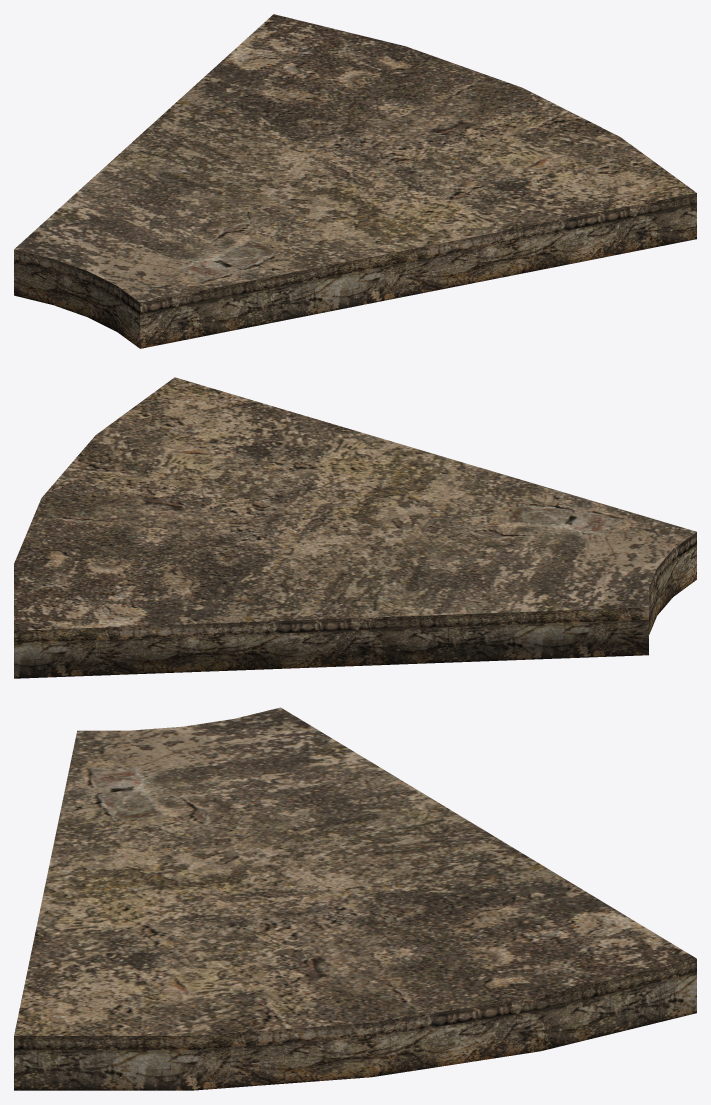
Rendered from materials_5_steps_10.fbx.
3 renders of one model, top to bottom at view 1: azimuth 30°, elevation 25°; view 2: azimuth 150°, elevation 25°; view 3: azimuth 270°, elevation 25°, orthographic. The views are drawn at different scales.
Visible parts, largest first — view 1: materials_5_steps_10; view 2: materials_5_steps_10; view 3: materials_5_steps_10.
Part boxes in pixels (bbox=[...]): materials_5_steps_10: bbox=[14, 14, 696, 348]; materials_5_steps_10: bbox=[14, 377, 696, 678]; materials_5_steps_10: bbox=[14, 707, 696, 1090].
Size of the model in its own units: 90.94 by 7.03 by 79.9.
